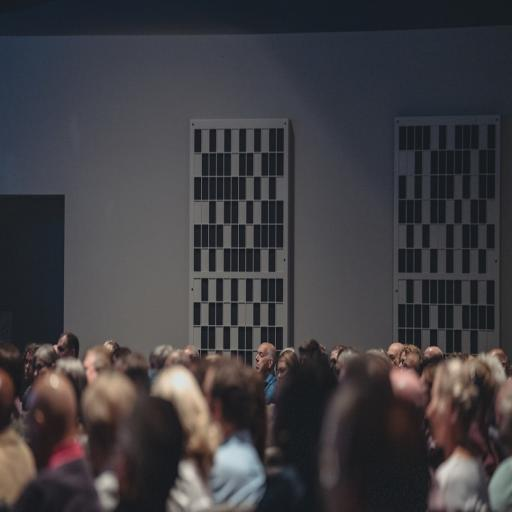face: (426, 378, 450, 447), (256, 344, 271, 374), (276, 359, 288, 381)
